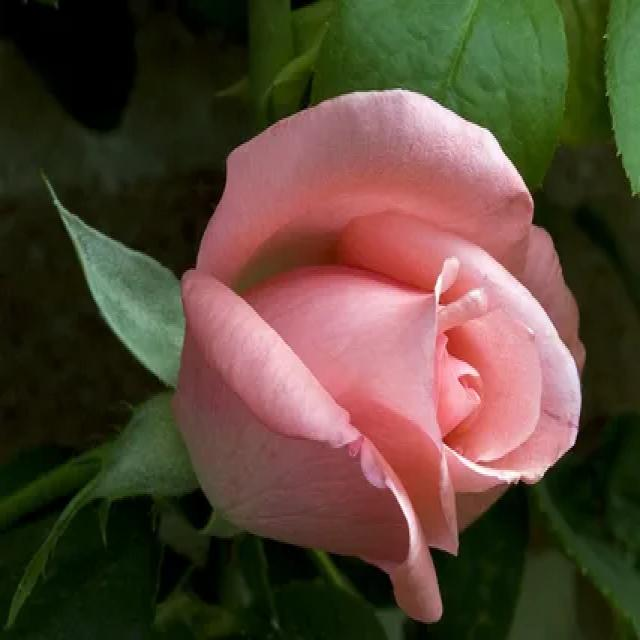rose: (176, 66, 597, 626)
